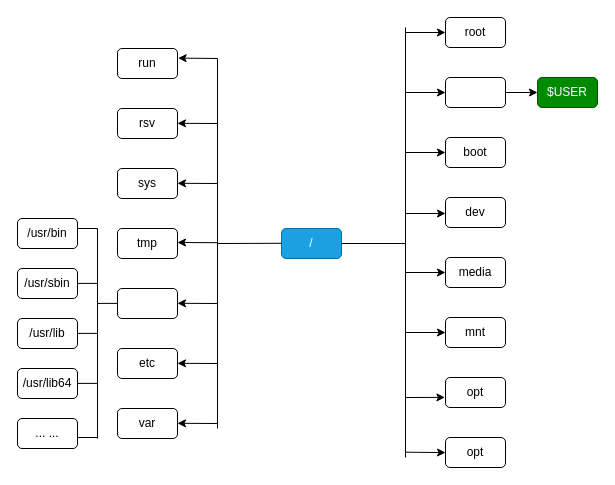
The diagram is 615 pixels wide and 485 high, and some of its shapes have lost their labels. Each missing label, with the box of its shape:
home: (444, 76, 506, 108)
usr: (116, 288, 178, 318)
